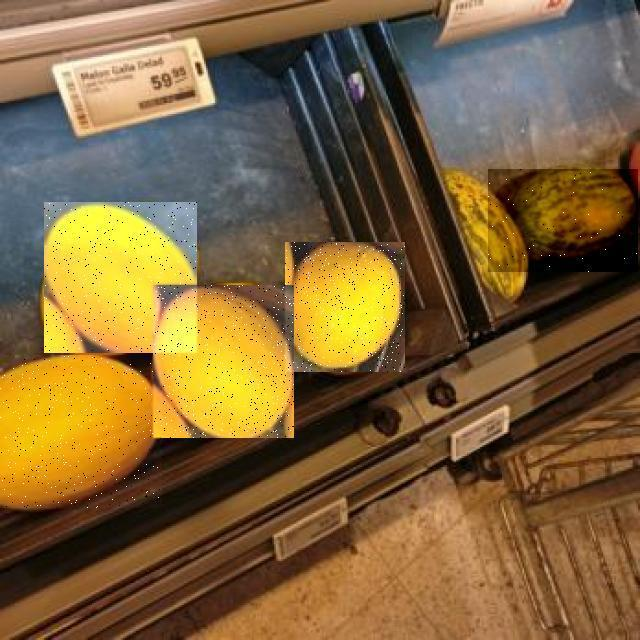Honey Dew: (0, 355, 162, 508), (44, 202, 197, 353), (153, 285, 294, 438), (285, 242, 405, 372)
Watermelon: (488, 169, 638, 272)
